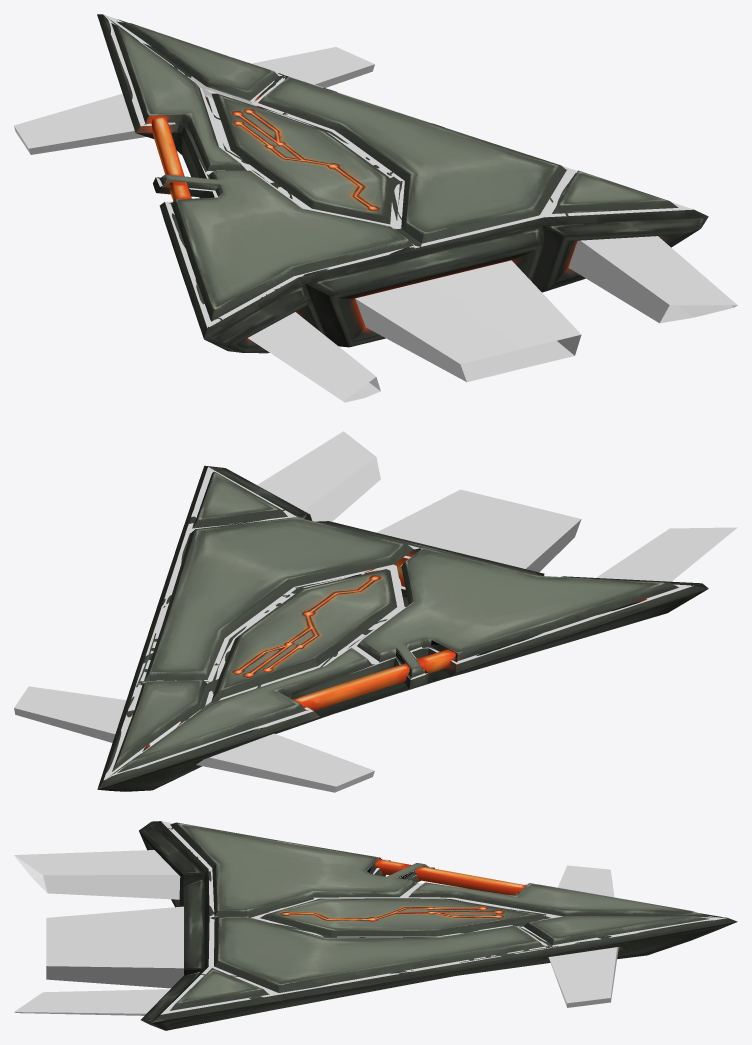
Rendered from board.fbx.
The picture shows the model from 3 angles, top to bottom: view 1: azimuth 30°, elevation 25°; view 2: azimuth 150°, elevation 25°; view 3: azimuth 270°, elevation 25°; orthographic projection. The views are drawn at different scales.
Visible parts, largest first — view 1: Board, Engine M, Engine R, Engine L, Engine FL, Engine FR; view 2: Board, Engine M, Engine R, Engine FL, Engine FR, Engine L; view 3: Board, Engine M, Engine L, Engine R, Engine FR, Engine FL.
Part boxes in pixels (x1,y1,x2,y2): Board: [97, 14, 708, 353]; Engine M: [355, 260, 581, 382]; Engine R: [568, 236, 737, 323]; Engine L: [248, 312, 380, 402]; Engine FL: [14, 93, 175, 154]; Engine FR: [191, 47, 374, 106]; Board: [97, 465, 708, 791]; Engine M: [361, 489, 581, 589]; Engine R: [257, 431, 380, 521]; Engine FL: [196, 728, 374, 792]; Engine FR: [14, 686, 180, 746]; Engine L: [596, 527, 737, 581]; Board: [139, 821, 737, 1030]; Engine M: [46, 906, 183, 988]; Engine L: [14, 850, 180, 899]; Engine R: [14, 989, 169, 1015]; Engine FR: [548, 947, 618, 1007]; Engine FL: [546, 865, 614, 917].
Bounding box in the file's own units: 8.87 × 1.33 × 13.51.
3 materials, 2 textured.
